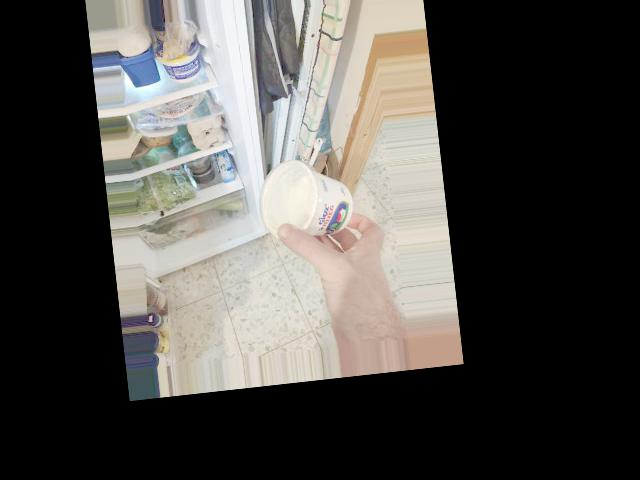cotage: (258, 161, 356, 244)
